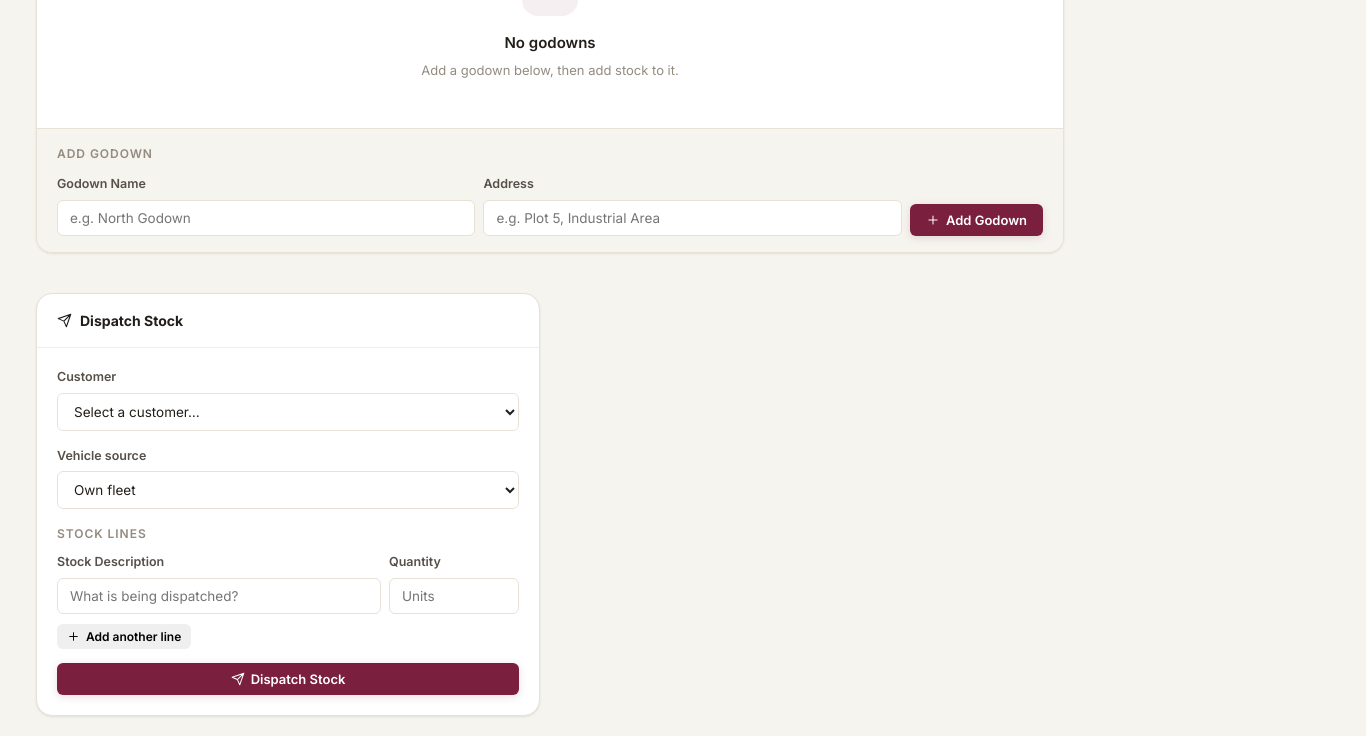
Scenario: OrganizationDetail page › dispatching on a hired vehicle › reserves stock against the chosen vendor, offering only active vendors
The image size is (1366, 736).
(page scrolled)
Step 1. Select "Hire from vendor" in the dropdown labelled "Vehicle source" → x=288, y=490, box [57, 471, 519, 509]
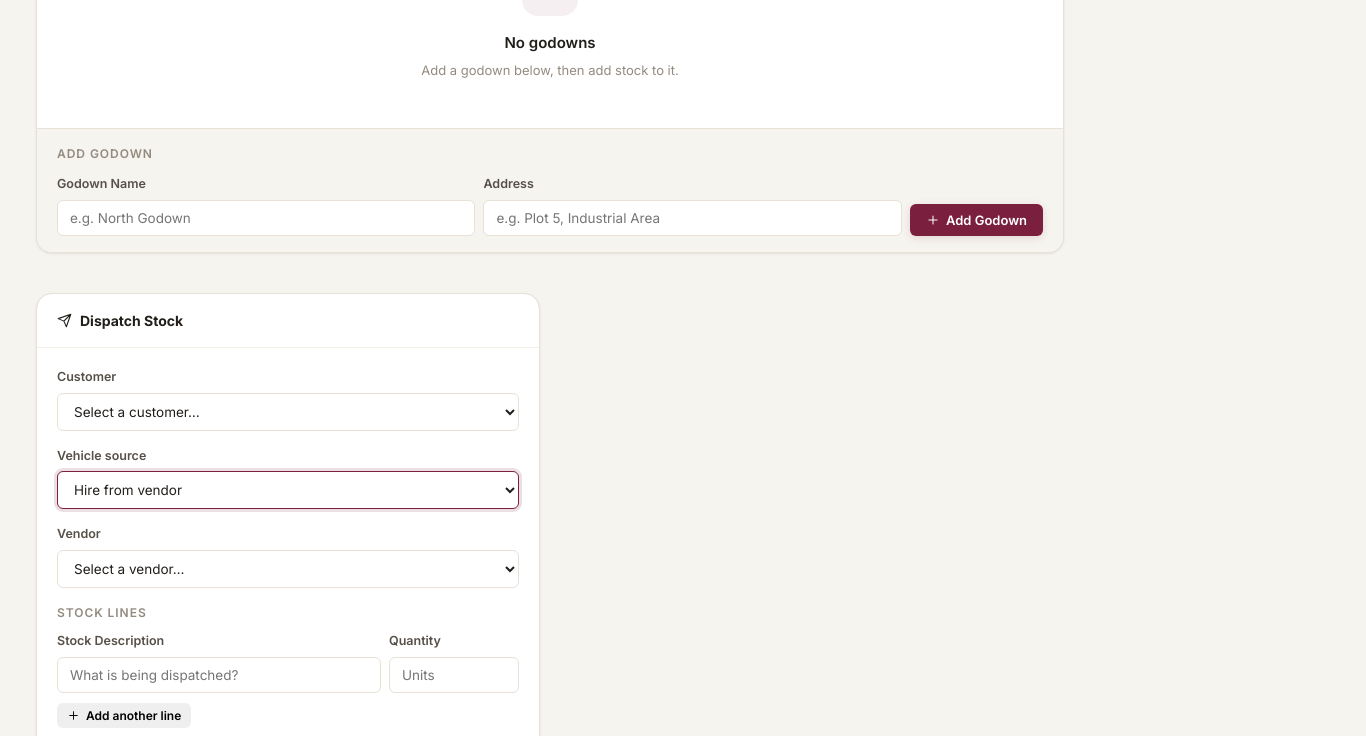
Step 2. Select "Sharma Roadlines · +91 1" in the dropdown labelled "Vendor" → x=288, y=569, box [57, 550, 519, 588]
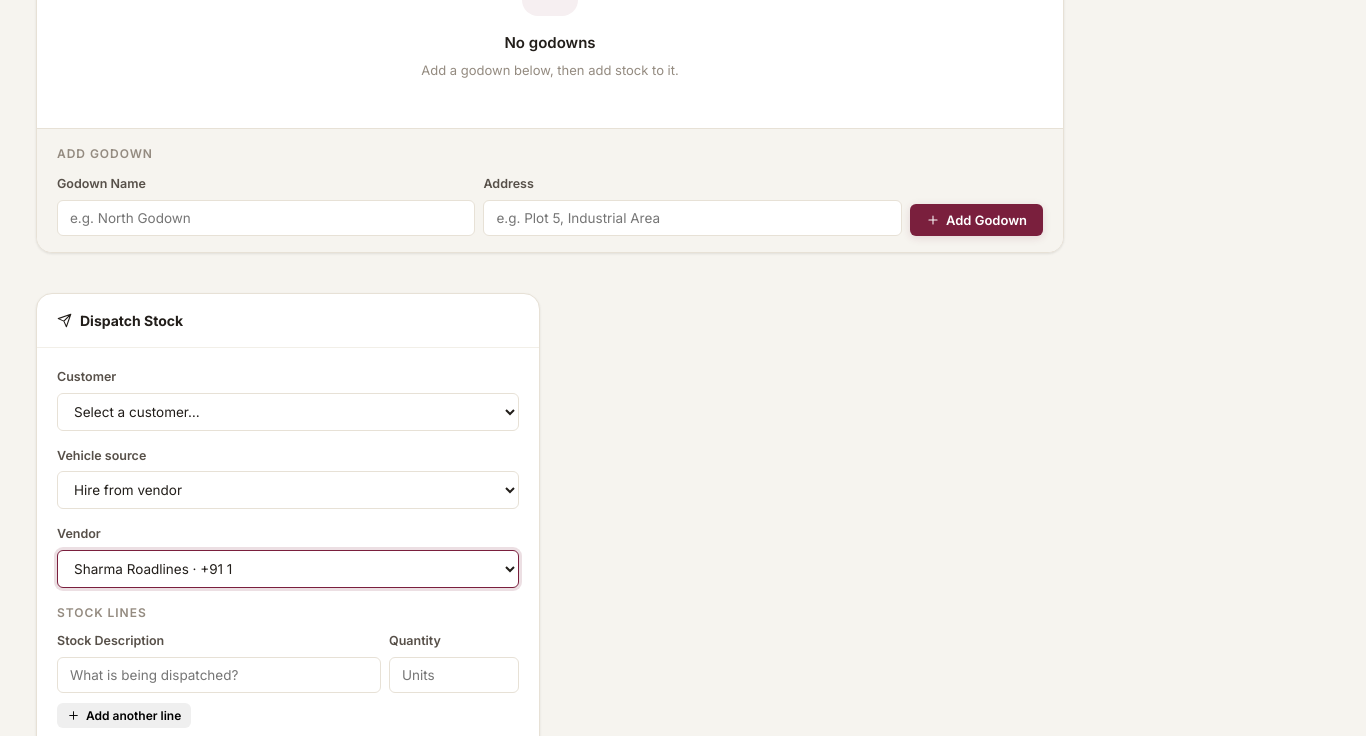
Step 3. Select "TechHub Stores" in the dropdown labelled "Customer" → x=288, y=412, box [57, 392, 519, 430]
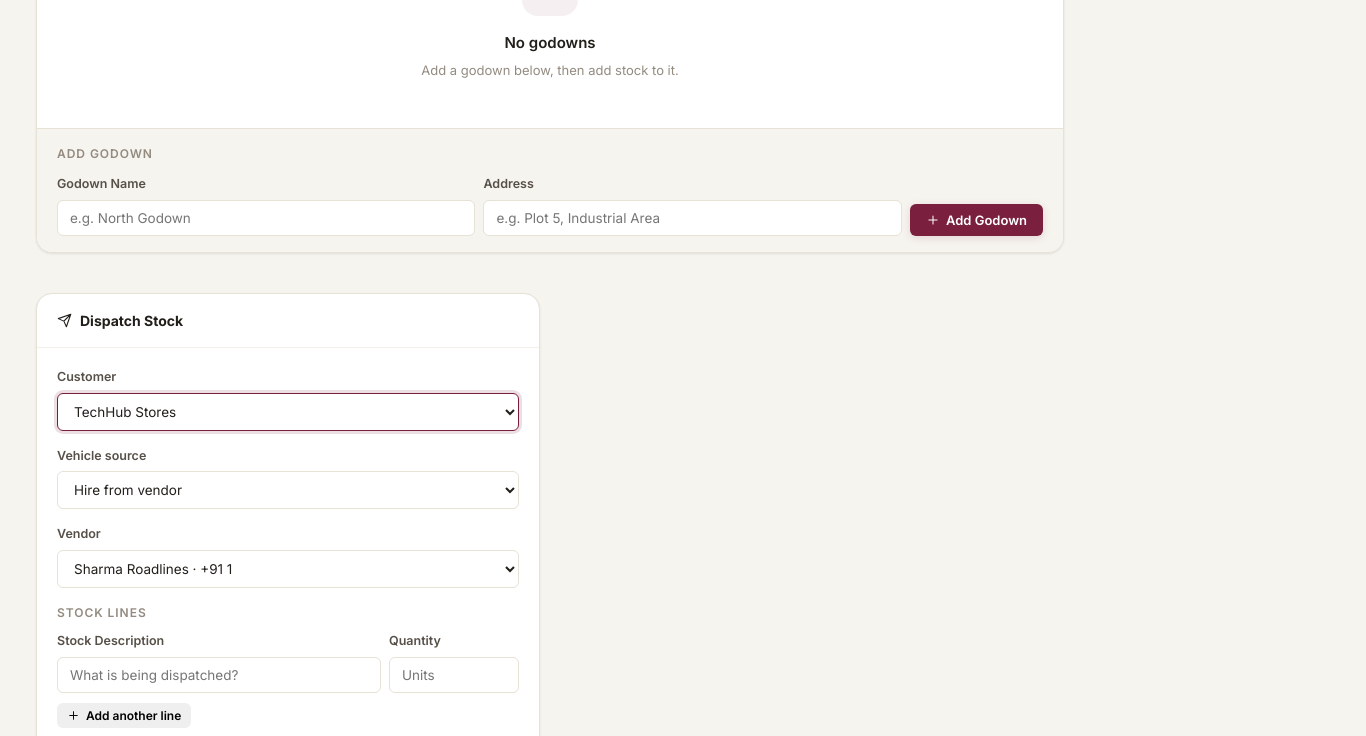
Step 4. Type "Cement" into the field labelled "Stock Description" → x=219, y=675, box [57, 657, 381, 693]
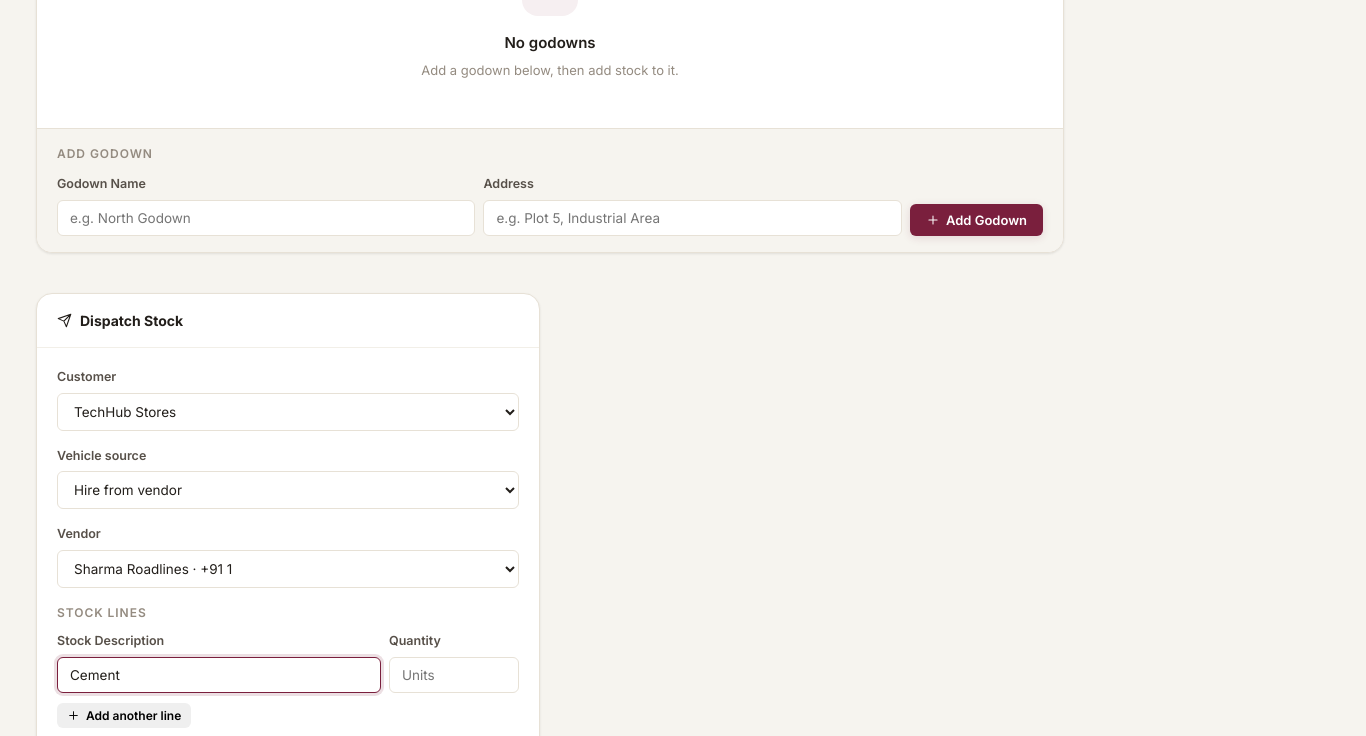
Step 5. Type "30" into the number field labelled "Quantity" → x=454, y=675, box [389, 657, 519, 693]
(page scrolled)
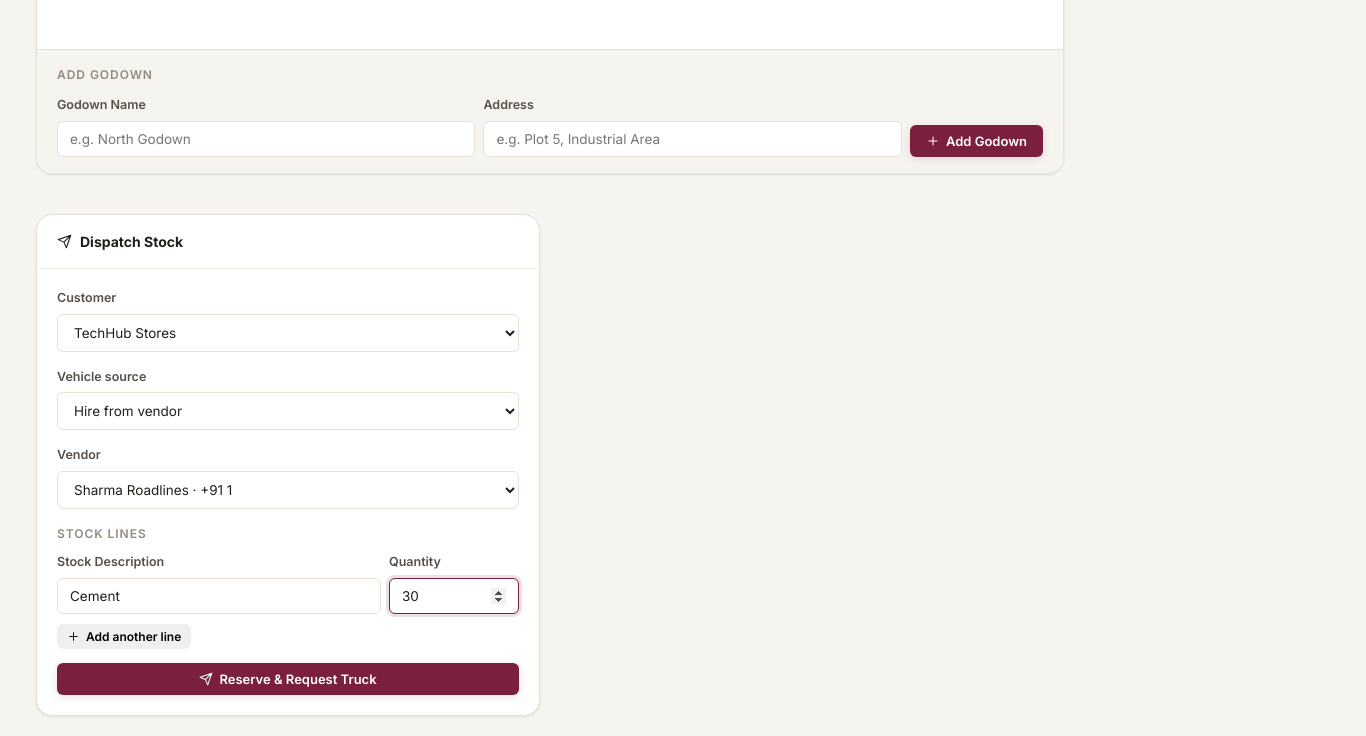
Step 6. Click the button "Reserve & Request Truck" → x=288, y=679, box [57, 663, 519, 695]
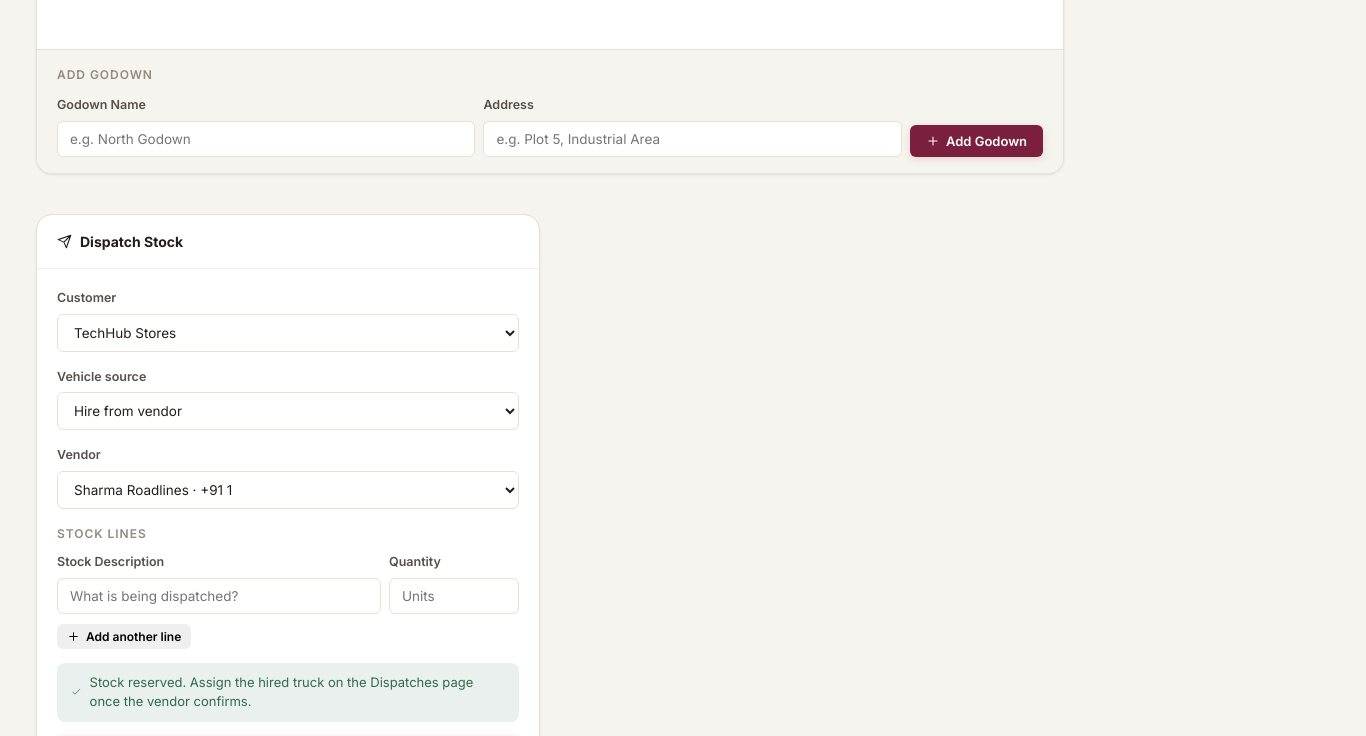
Check: the text "Stock reserved" is shown, box [90, 674, 473, 709]
